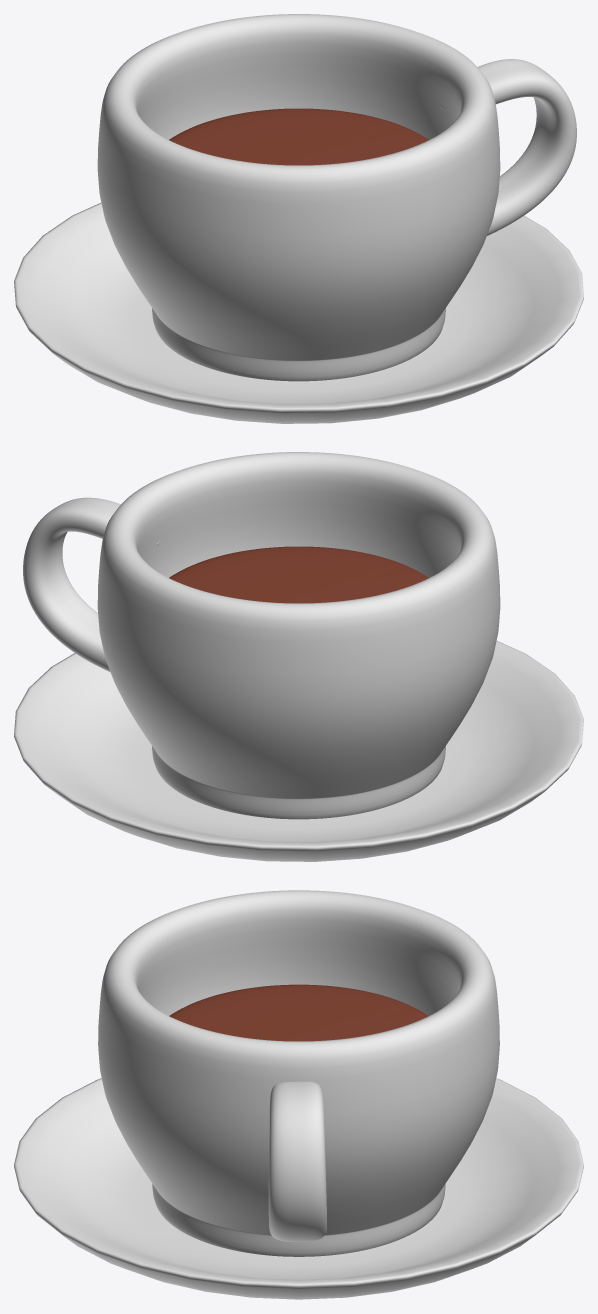
The model's file is Coffee_cup_withe_.fbx.
3 views of the same model, one above another, from view 1: azimuth 30°, elevation 25°; view 2: azimuth 150°, elevation 25°; view 3: azimuth 270°, elevation 25° (orthographic).
Visible parts, largest first — view 1: Circle, Coffee_cup_withe_saucer; view 2: Circle, Coffee_cup_withe_saucer; view 3: Circle, Coffee_cup_withe_saucer.
Part boxes in pixels (left/top/right/bottom): Circle: left=97, top=14, right=576, bottom=381; Coffee_cup_withe_saucer: left=14, top=203, right=583, bottom=423; Circle: left=23, top=452, right=500, bottom=819; Coffee_cup_withe_saucer: left=14, top=641, right=583, bottom=861; Circle: left=98, top=890, right=499, bottom=1256; Coffee_cup_withe_saucer: left=14, top=1078, right=583, bottom=1299.
Size of the model in its own units: 0.5962 by 0.2903 by 0.5713.
